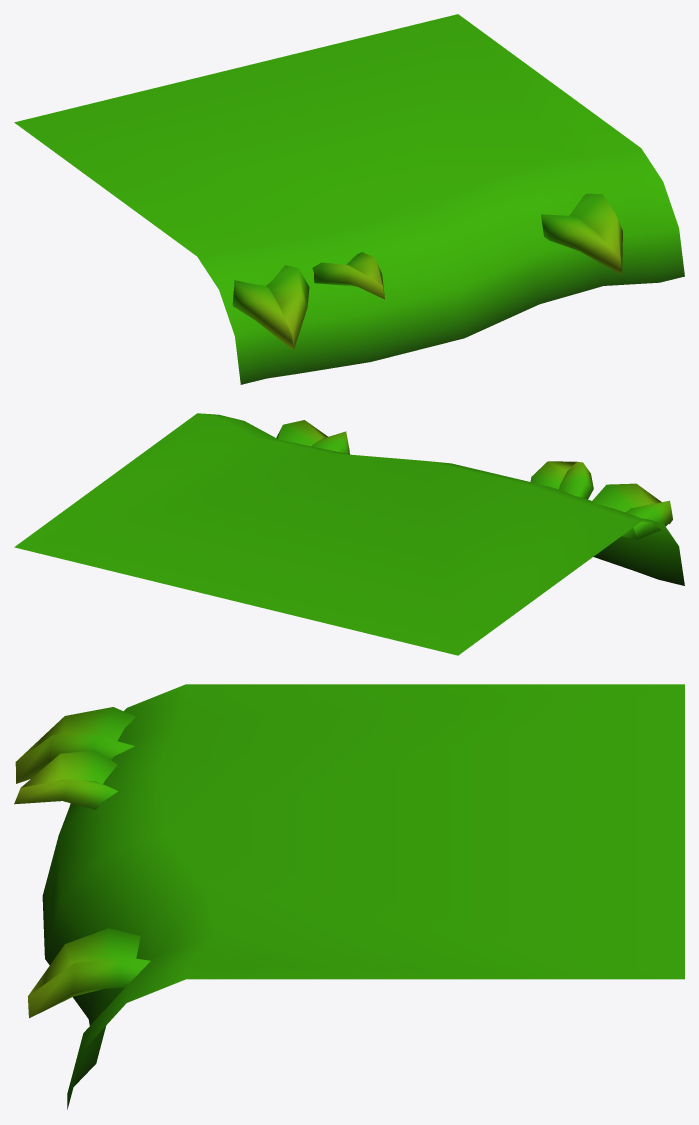
File: Surface_PlatformShirt01.fbx
3 views of the same model, one above another, from view 1: azimuth 30°, elevation 25°; view 2: azimuth 150°, elevation 25°; view 3: azimuth 270°, elevation 25° (orthographic). The views are drawn at different scales.
Parts seen in each view (by area): view 1: Surface_PlatformShirt01; view 2: Surface_PlatformShirt01; view 3: Surface_PlatformShirt01.
Boxes of the visible parts, x1,y1,x2,y2 form: Surface_PlatformShirt01: (14,14,684,384); Surface_PlatformShirt01: (14,413,684,655); Surface_PlatformShirt01: (14,684,684,1109).
Size of the model in its own units: 2000 by 415 by 1922.
